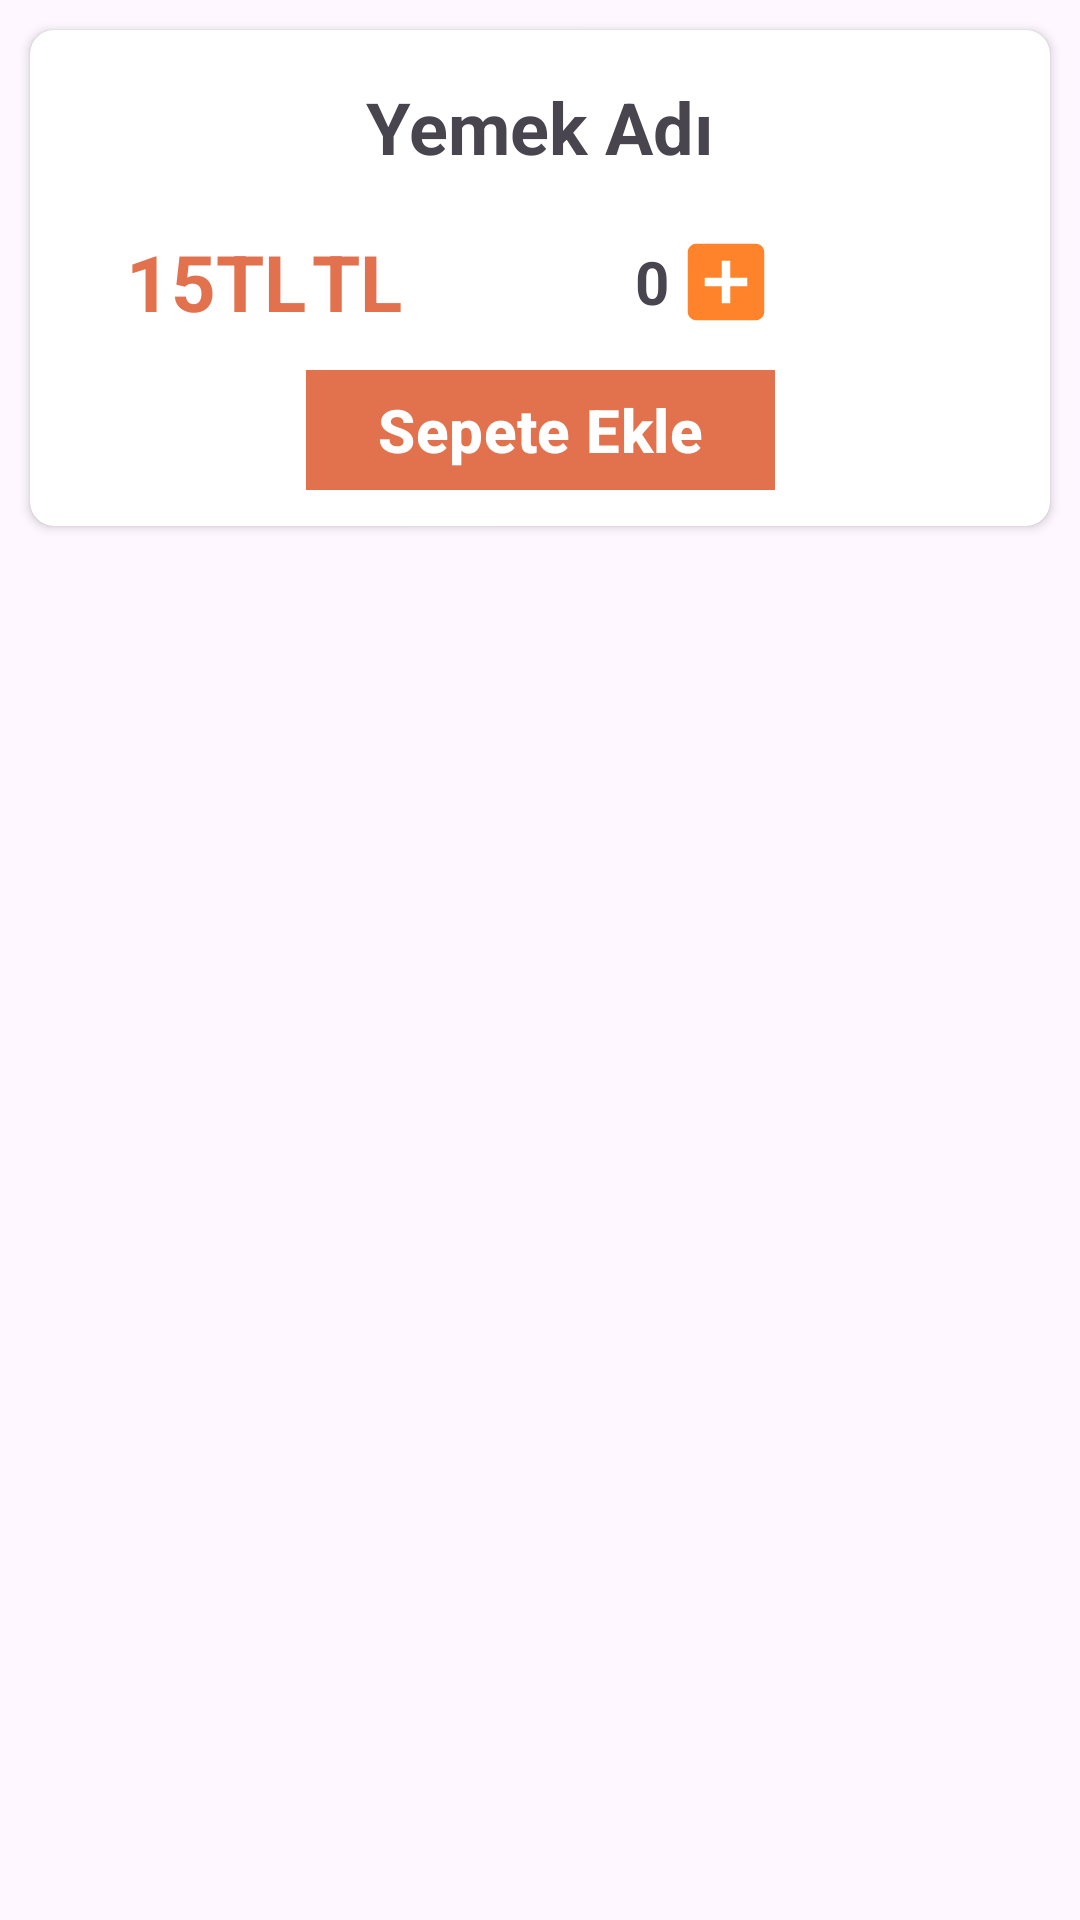

Icons on this 1080×1920 Android screen, each with the point to tap as point (x, y):
add: point (726, 282)
